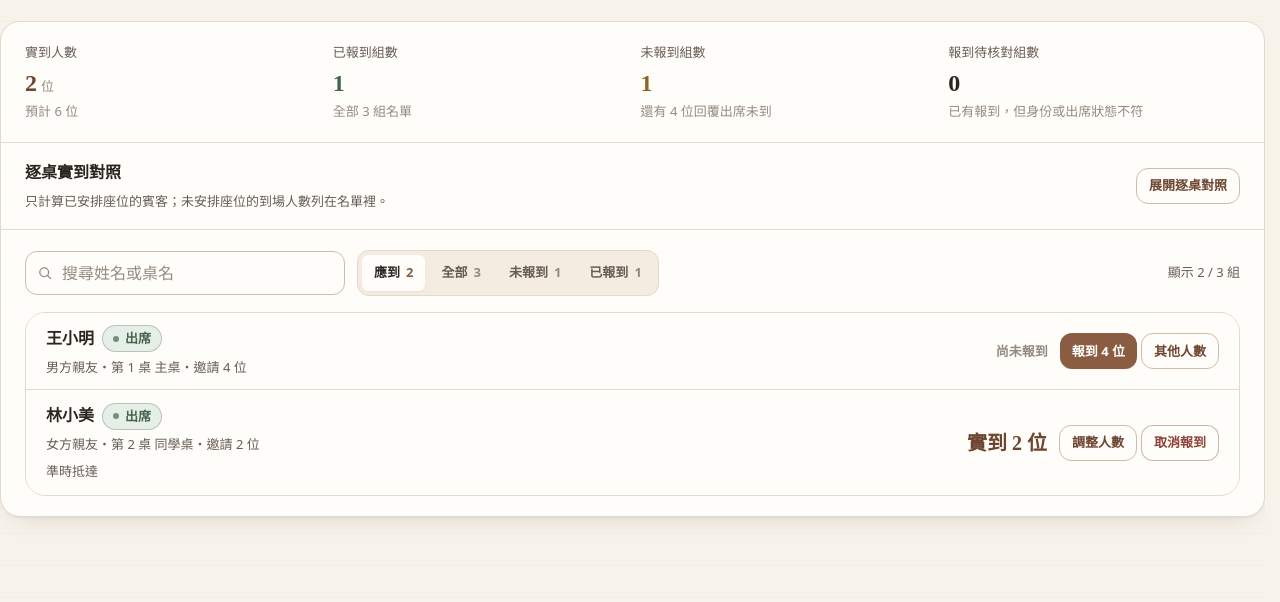
Test: GuestCheckInBoard › checks a guest in with the invited party size and updates the running total
This screenshot has width=1280, height=602.
Click the button "報到 4 位" at [1098, 351], box [1060,333,1137,369]
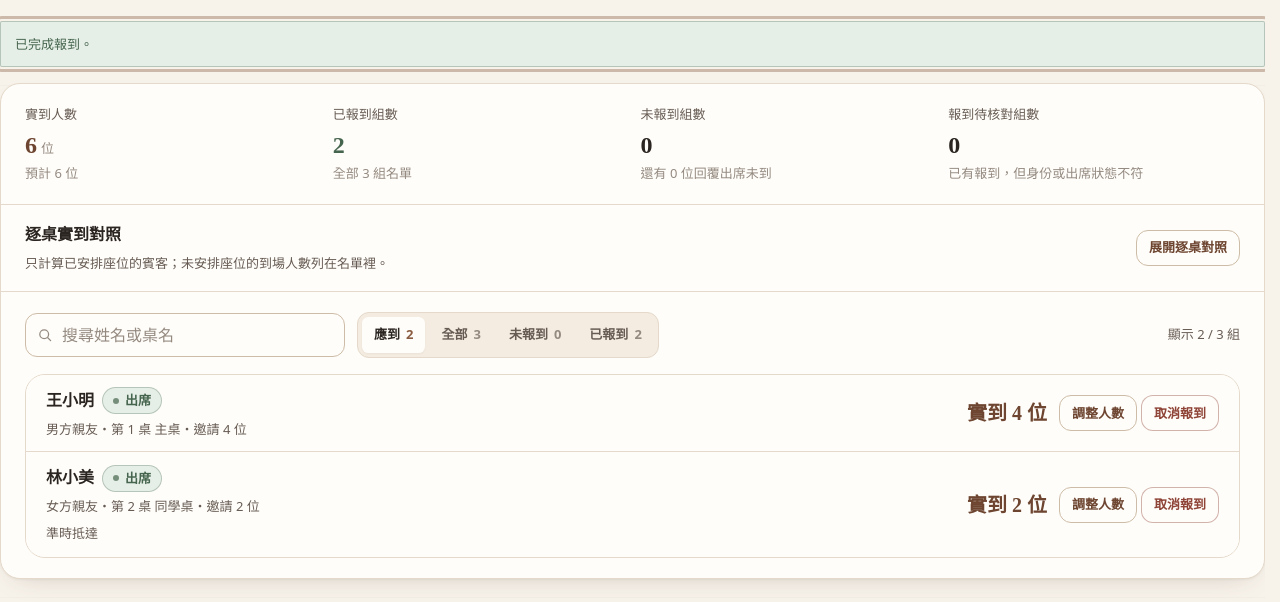
Result: the message reads "已完成報到。" at [15,35,93,53]
Result: the text "實到 4 位" is shown at [967,402,1047,424]
